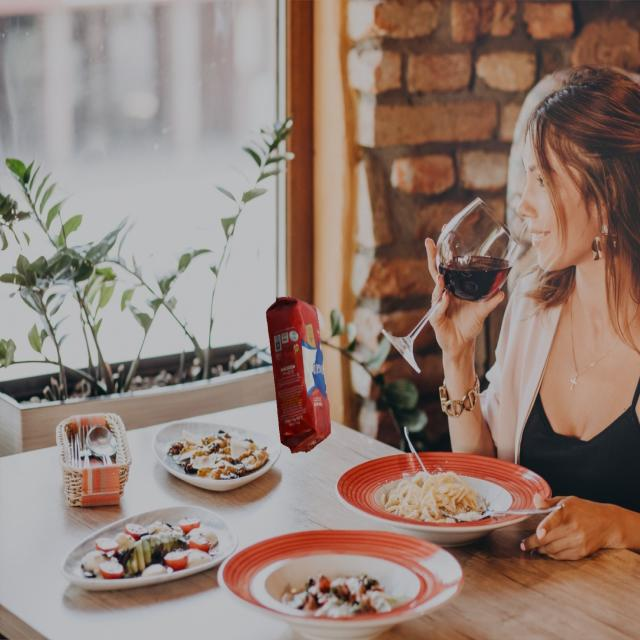mate bag: (266, 289, 335, 457)
